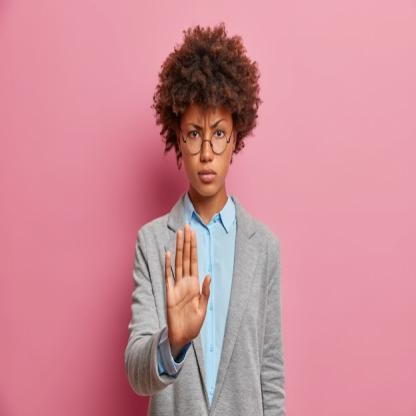stop: (162, 218, 212, 348)
